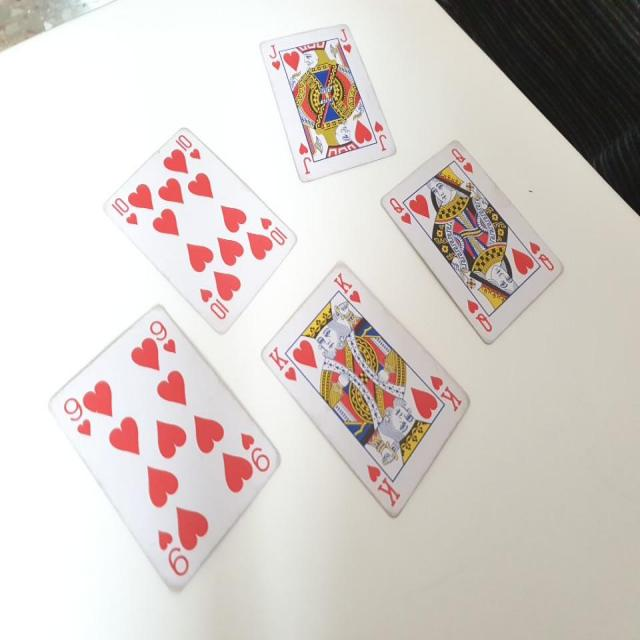10 Hearts: (105, 119, 297, 336)
9 Hearts: (44, 292, 281, 606)
J Hearts: (251, 12, 398, 180)
K Hearts: (256, 255, 472, 531)
Q Hearts: (380, 130, 565, 354)
